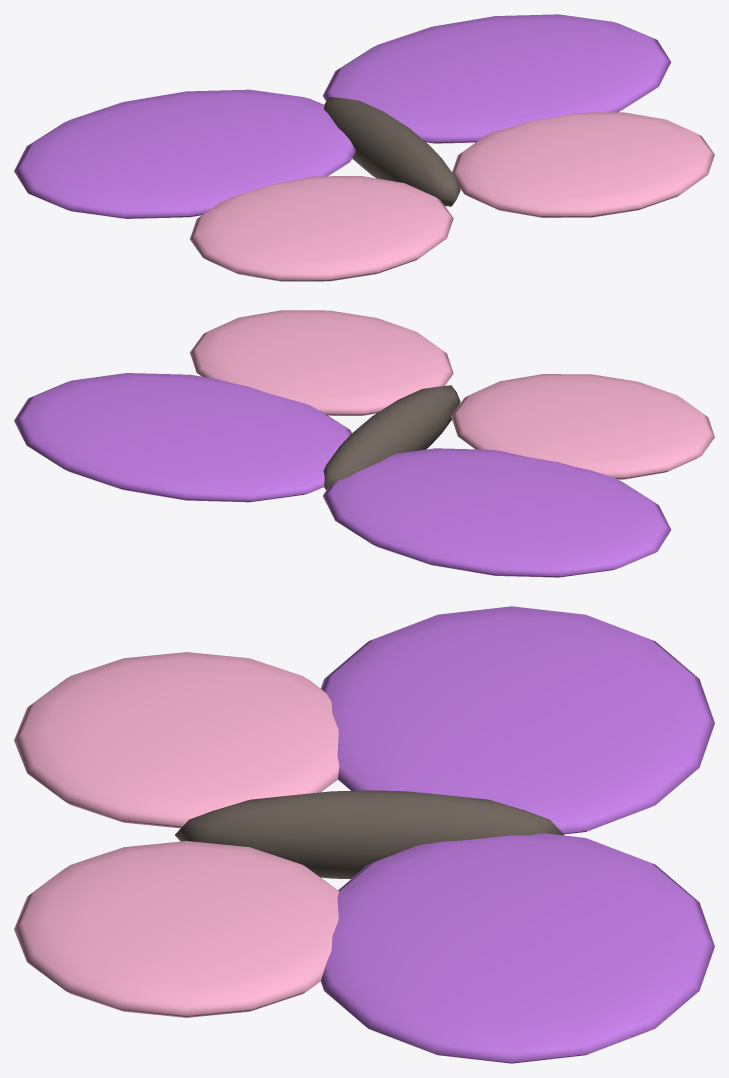
File: kelebek.glb
3 renders of one model, top to bottom at view 1: azimuth 30°, elevation 25°; view 2: azimuth 150°, elevation 25°; view 3: azimuth 270°, elevation 25°, orthographic. The views are drawn at different scales.
Parts seen in each view (by area): view 1: Kelebek; view 2: Kelebek; view 3: Kelebek.
Part boxes in pixels (bbox=[...]): Kelebek: bbox=[14, 14, 714, 281]; Kelebek: bbox=[14, 310, 714, 577]; Kelebek: bbox=[14, 606, 714, 1063].
Size of the model in its own units: 0.95 by 0.0789 by 0.6184.
